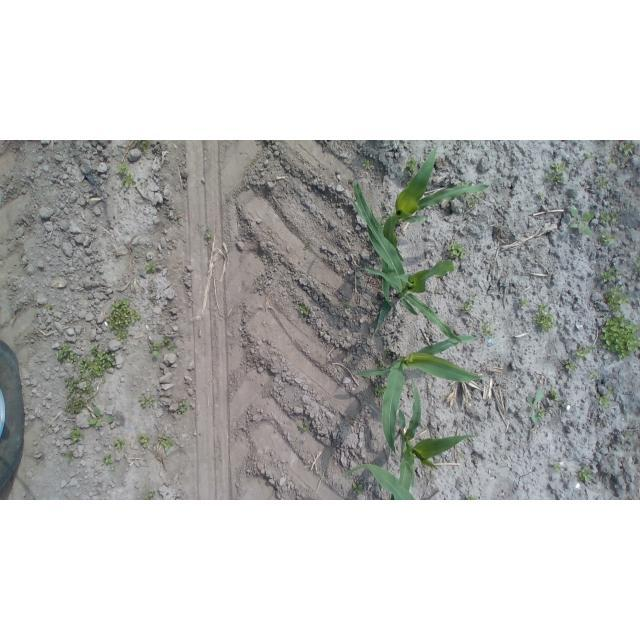Maize: (349, 180, 464, 343), (382, 145, 490, 308), (356, 336, 477, 463), (390, 374, 480, 500), (340, 464, 414, 500)
Weeds: (55, 342, 116, 414), (598, 316, 640, 361), (107, 296, 142, 344), (533, 298, 558, 335), (604, 283, 630, 316), (565, 208, 595, 236), (527, 389, 548, 423), (149, 334, 180, 357), (86, 407, 114, 430), (545, 160, 567, 184), (115, 164, 134, 189), (460, 290, 477, 314), (446, 240, 466, 260), (575, 343, 598, 360), (157, 435, 177, 454), (600, 208, 621, 224), (600, 266, 618, 283), (467, 192, 485, 208), (595, 394, 613, 410), (70, 426, 85, 445), (578, 465, 593, 484), (137, 394, 157, 408), (175, 397, 189, 416), (620, 142, 637, 156), (598, 232, 616, 244), (61, 451, 76, 465), (480, 322, 493, 338), (135, 140, 151, 153), (138, 433, 150, 450), (172, 211, 184, 227), (101, 453, 114, 467), (564, 358, 579, 370), (114, 437, 126, 451), (352, 482, 364, 495), (633, 253, 640, 274), (587, 368, 599, 380), (406, 157, 419, 168), (549, 387, 560, 400), (145, 261, 156, 273), (298, 422, 310, 432), (375, 384, 385, 396), (464, 492, 478, 500), (300, 305, 311, 315), (519, 298, 529, 309), (538, 407, 547, 419), (585, 151, 595, 161), (605, 158, 615, 168), (598, 179, 608, 189), (145, 491, 156, 500), (362, 160, 371, 170), (606, 385, 614, 396), (554, 464, 563, 473), (457, 451, 465, 461), (478, 316, 487, 324), (538, 190, 547, 198), (204, 234, 213, 242), (554, 400, 564, 407), (461, 182, 474, 187), (625, 430, 633, 438), (108, 466, 116, 473), (304, 242, 311, 250), (47, 304, 54, 311), (346, 302, 351, 310), (385, 349, 391, 355), (146, 303, 150, 310), (150, 328, 154, 333)
